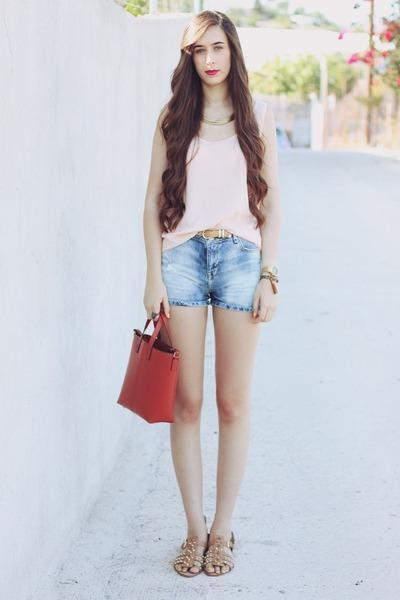bag: (117, 301, 188, 423)
shirt: (162, 137, 256, 248)
shoe: (171, 528, 237, 577)
shorts: (165, 228, 259, 313)
